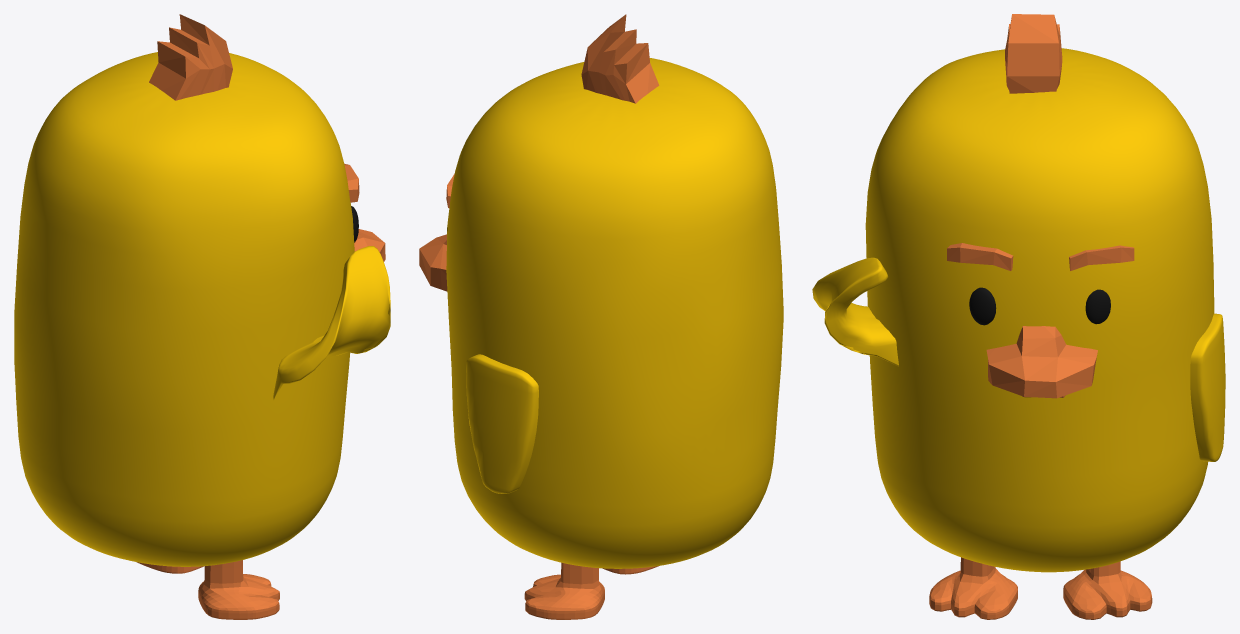
File: ducks1.fbx
3 renders of one model, left to right at view 1: azimuth 30°, elevation 25°; view 2: azimuth 150°, elevation 25°; view 3: azimuth 270°, elevation 25°, orthographic. The views are drawn at different scales.
Visible parts, largest first — view 1: Cylinder, Cylinder.002, Cube.001, Plane; view 2: Cylinder, Cylinder.002, Cube.001, Plane, Cube; view 3: Cylinder, Cylinder.002, Plane, Cube, Cube.001, Cube.002, Icosphere.
Boxes of the visible parts, x1,y1,x2,y2 form: Cylinder: (14, 52, 354, 566); Cylinder.002: (273, 246, 390, 399); Cube.001: (149, 14, 232, 100); Plane: (136, 560, 279, 619); Cylinder: (446, 58, 783, 568); Cylinder.002: (466, 354, 538, 493); Cube.001: (581, 14, 659, 103); Plane: (524, 562, 658, 619); Cube: (419, 234, 447, 291); Cylinder: (865, 48, 1214, 572); Cylinder.002: (812, 257, 1225, 461); Plane: (929, 557, 1152, 619); Cube: (986, 326, 1097, 398); Cube.001: (1005, 14, 1062, 93); Cube.002: (947, 243, 1134, 270); Icosphere: (969, 287, 1110, 325).
Size of the model in its own units: 22.99 by 36.83 by 23.77.
